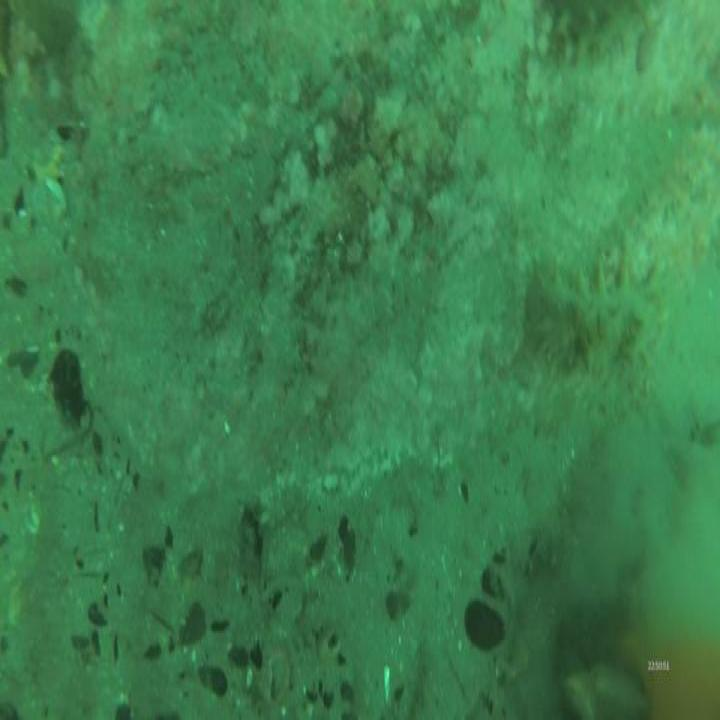holothurian: (531, 231, 670, 391), (534, 0, 662, 76)
